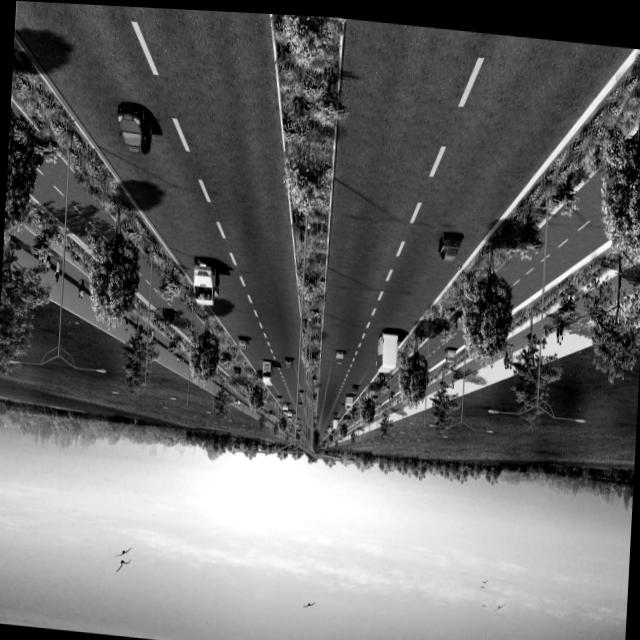cleat: (0, 1, 640, 640)
